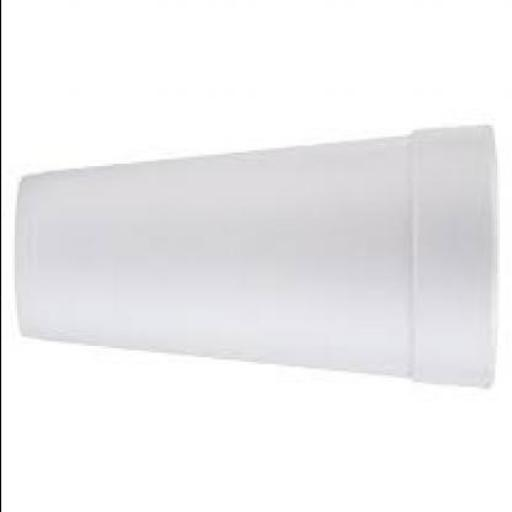paper: (21, 118, 496, 387)
